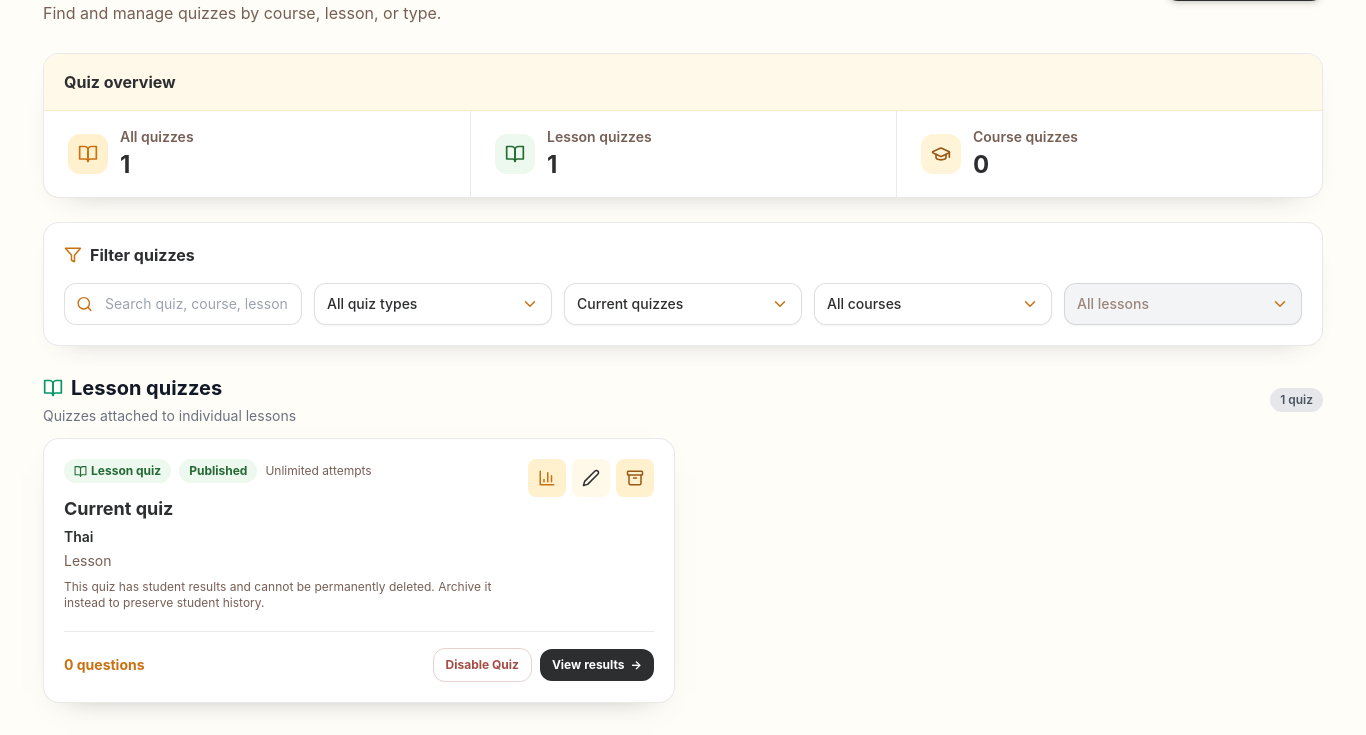
Test: Quiz Management archived recovery › confirms Disable Quiz, then shows Disabled and Publish Quiz
(page scrolled)
Expected: the heading "Current quiz" is shown, [64, 498, 173, 519]
Click the button "Disable Quiz" at (482,665), box [433, 648, 532, 682]
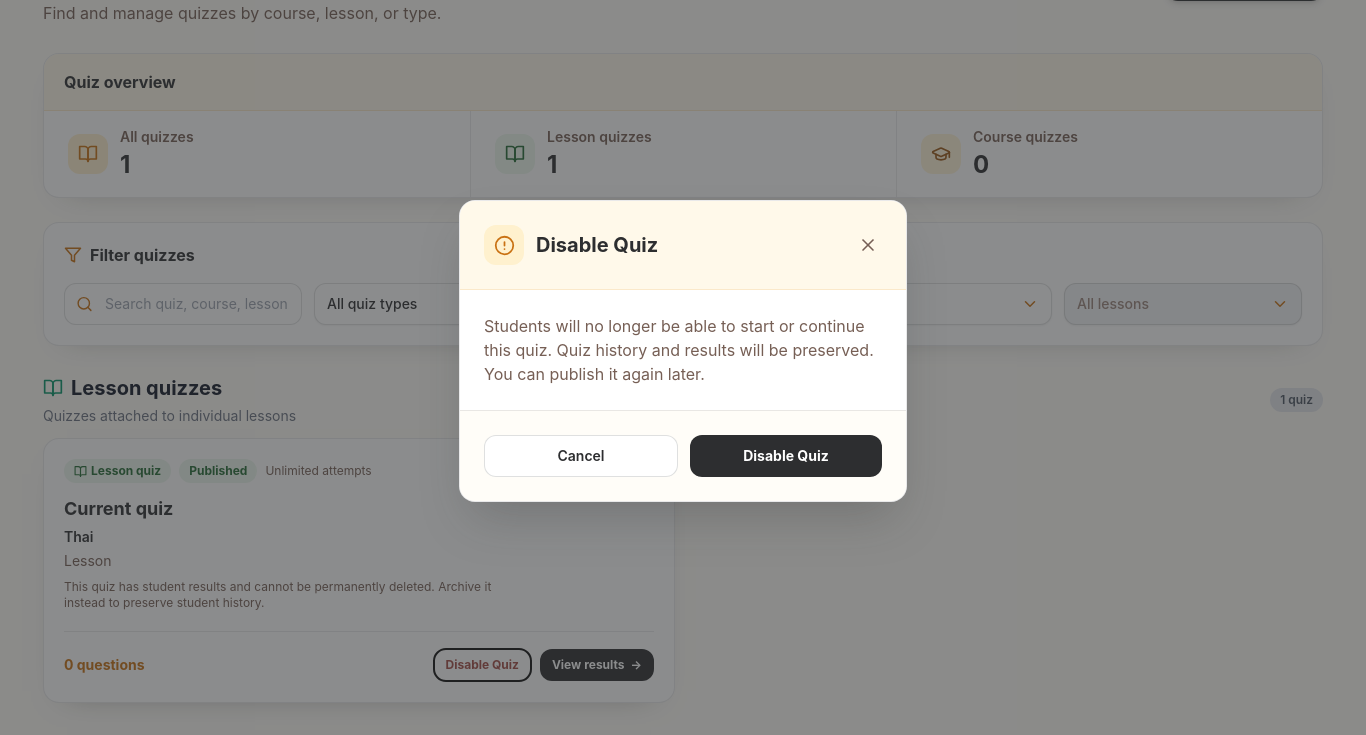
Expected: the text "history and results will be preserved" is shown, [484, 316, 874, 384]
Click the button "Cancel" at (581,456), box [484, 435, 678, 477]
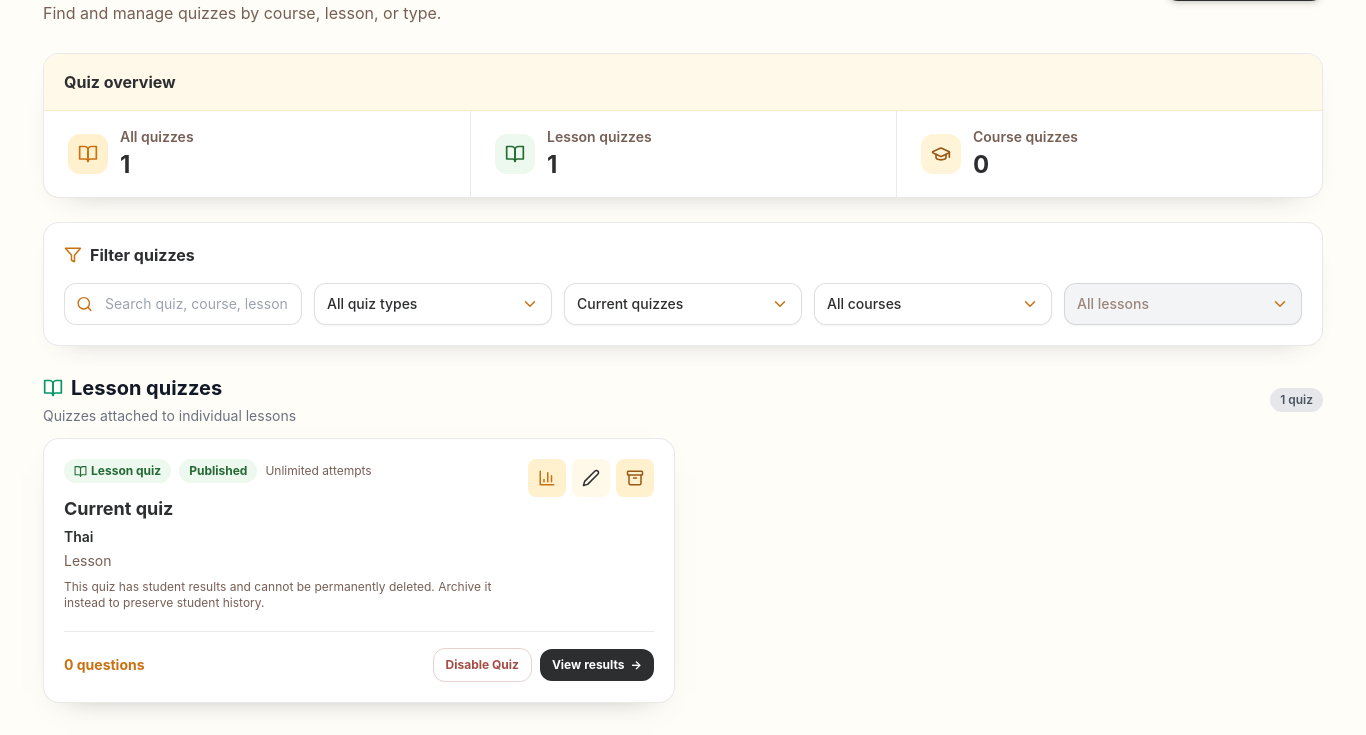
Click the button "Disable Quiz" at (482,665), box [433, 648, 532, 682]
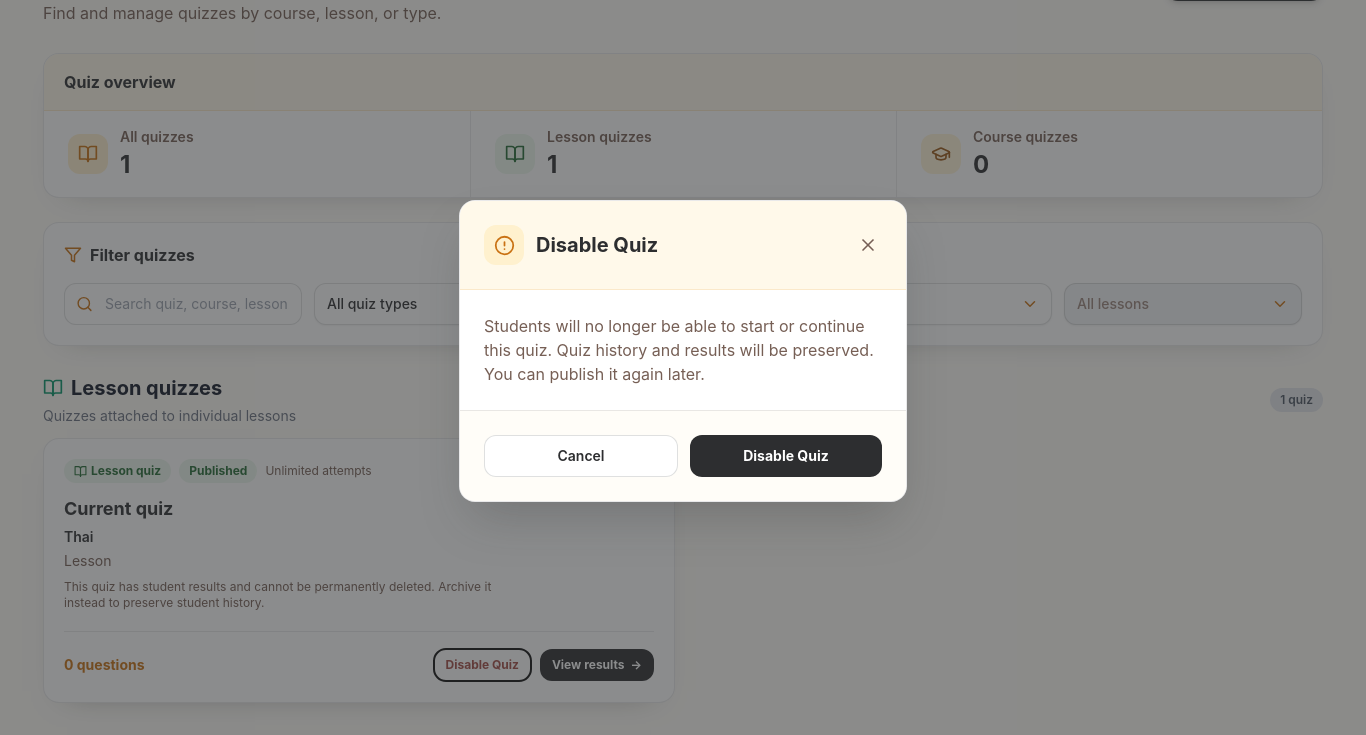
Click the button "Disable Quiz" at (786,456), box [690, 435, 882, 477]
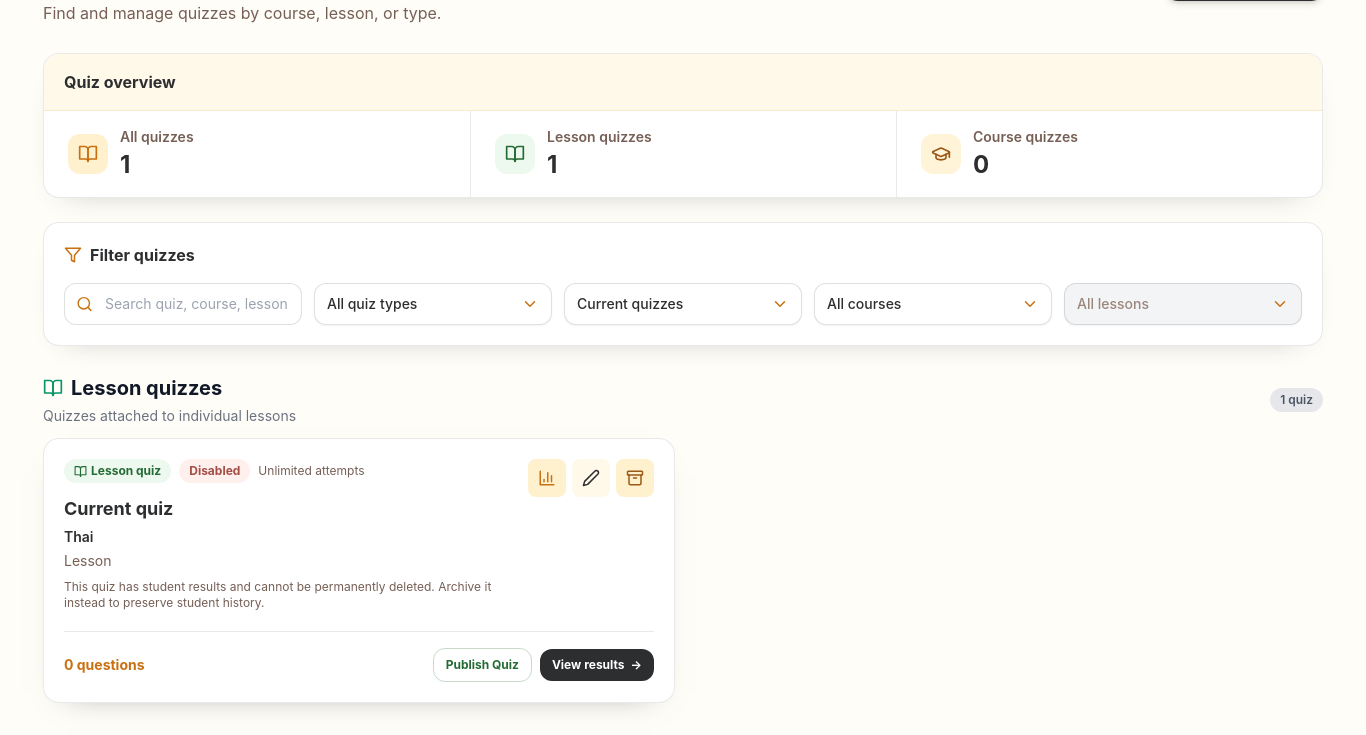
Expected: the text "Disabled" is shown, [179, 459, 250, 483]
Expected: the button "Publish Quiz" is shown, [433, 648, 532, 682]
